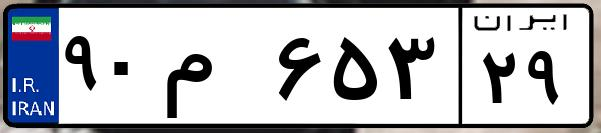0: (110, 28, 158, 98)
2: (475, 38, 525, 113)
3: (385, 28, 445, 110)
5: (330, 28, 385, 110)
6: (270, 28, 330, 110)
9: (57, 26, 110, 100), (525, 38, 570, 115)
م: (158, 20, 270, 120)
